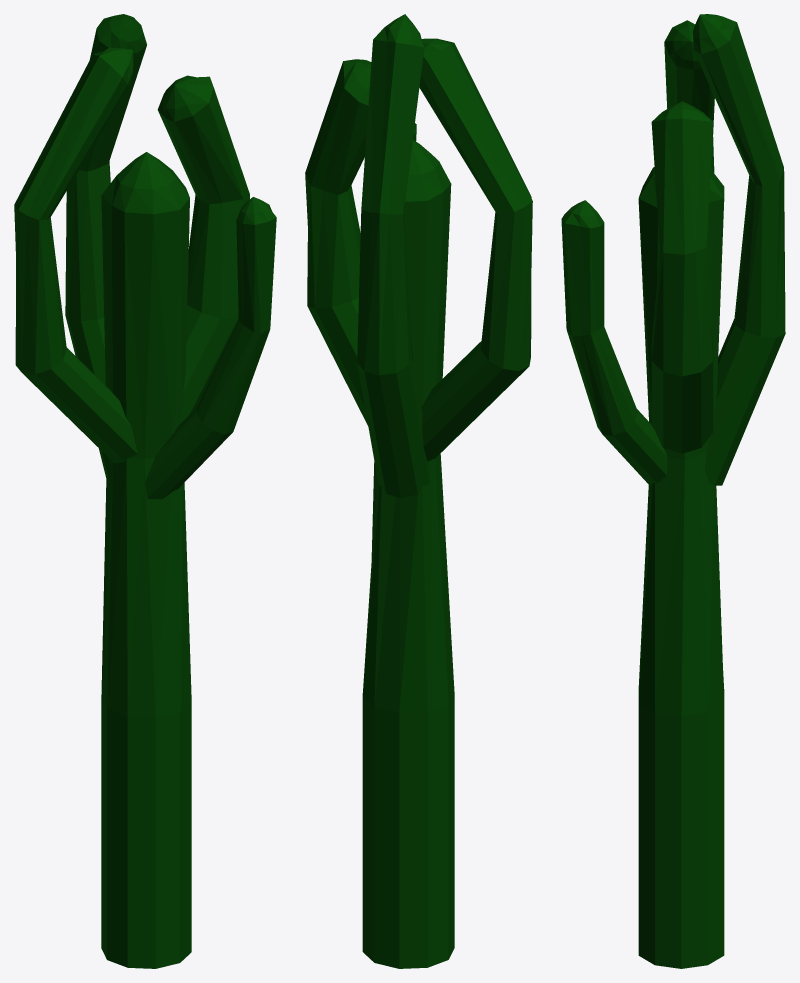
The model's file is Kaktus1.fbx.
3 renders of one model, left to right at view 1: azimuth 30°, elevation 25°; view 2: azimuth 150°, elevation 25°; view 3: azimuth 270°, elevation 25°, orthographic.
Parts seen in each view (by area): view 1: pCylinder1, pasted__pCylinder1 (×3), pasted__pasted__pCylinder1; view 2: pCylinder1, pasted__pCylinder1 (×2), pasted__pasted__pCylinder1; view 3: pasted__pCylinder1 (×3), pCylinder1, pasted__pasted__pCylinder1.
Part boxes in pixels (<box>): pCylinder1: <box>101,152,191,968</box>; pasted__pCylinder1 (×3): <box>65,14,276,499</box>; pasted__pasted__pCylinder1: <box>14,47,137,463</box>; pCylinder1: <box>362,140,454,968</box>; pasted__pCylinder1 (×2): <box>305,14,429,498</box>; pasted__pasted__pCylinder1: <box>419,38,532,461</box>; pasted__pCylinder1 (×3): <box>561,14,785,485</box>; pCylinder1: <box>638,167,724,968</box>; pasted__pasted__pCylinder1: <box>664,20,714,172</box>.
Bounding box in the file's own units: 2.07 × 8.13 × 1.77.
